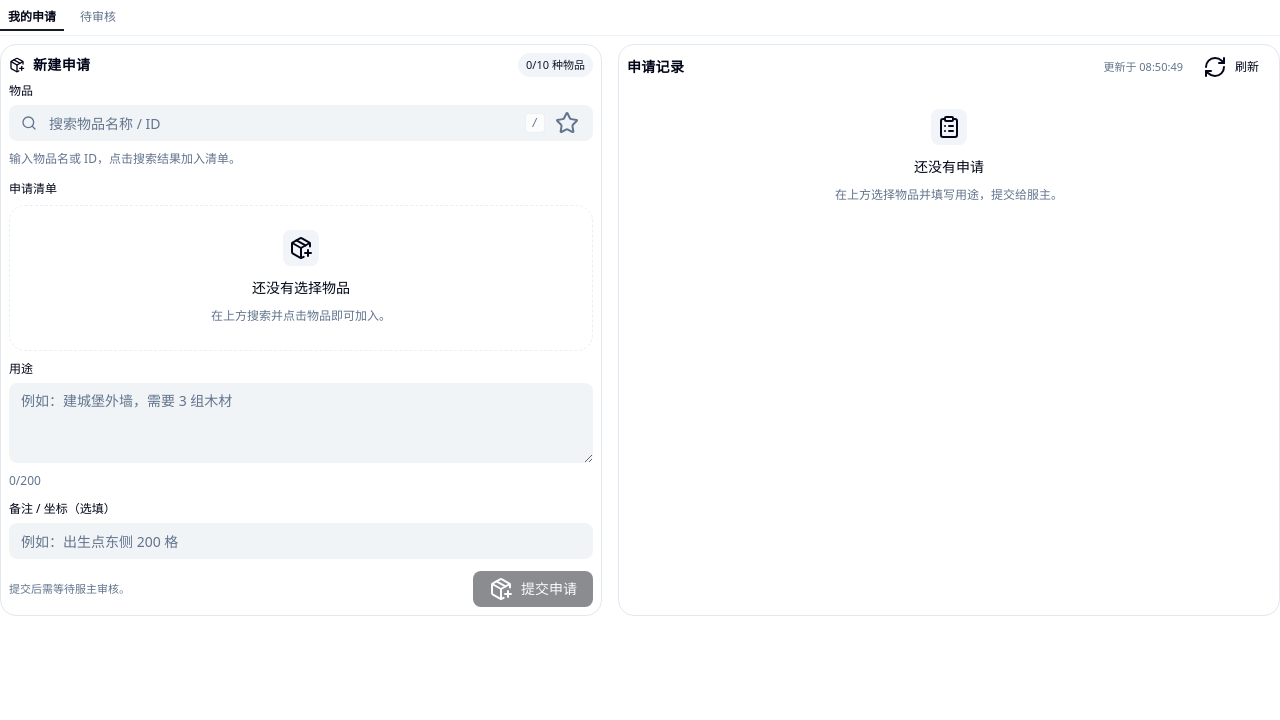
Test: RequisitionPage › 搜索框右侧的「物品收藏」popover：点一件直接加进申请清单
Check: the element named "物品收藏" is shown, box [9,105,593,141]
Click the button named "物品收藏" at (567, 123), box [553,109,581,137]
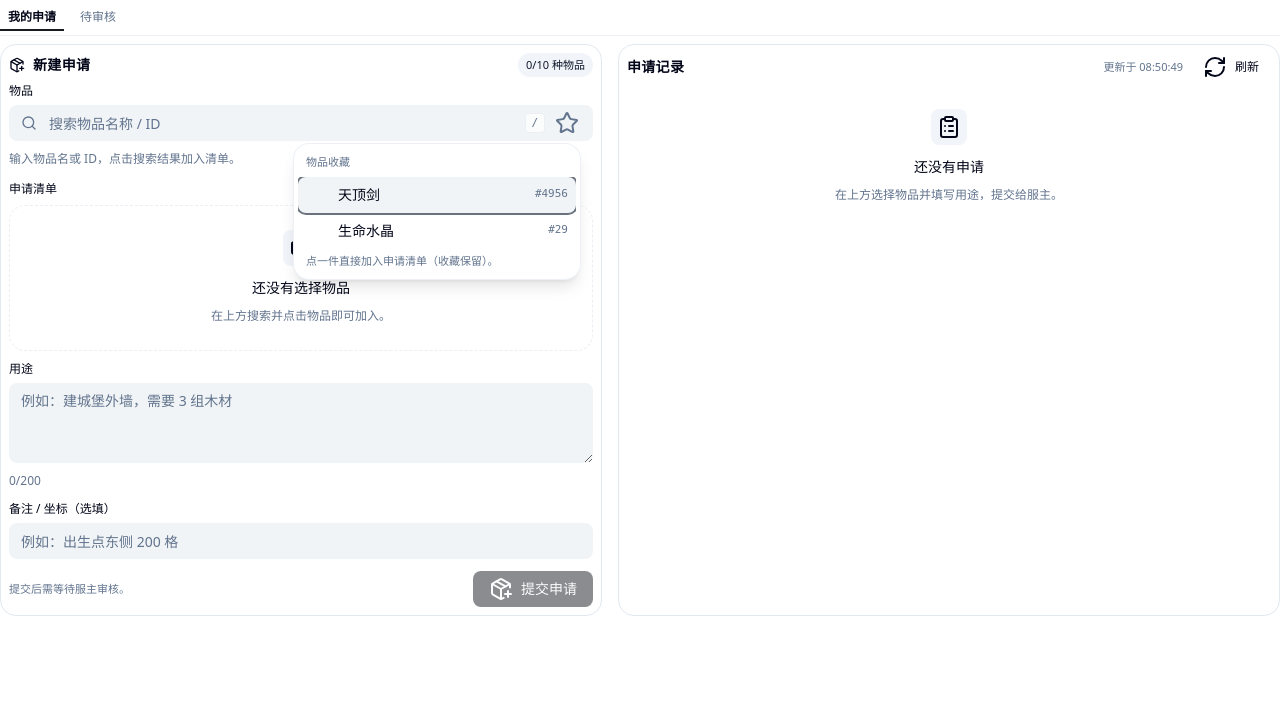
Check: the text "生命水晶" is shown, box [338,220,394,240]
Check: the text "天顶剑" is shown, box [338,184,380,204]
# 点一件 → 加进清单并**自动收起浮层**（收藏本身保留）。
Click the button with aria-label "把 生命水晶 加入申请清单" at (366, 230), box [298,212,576,248]
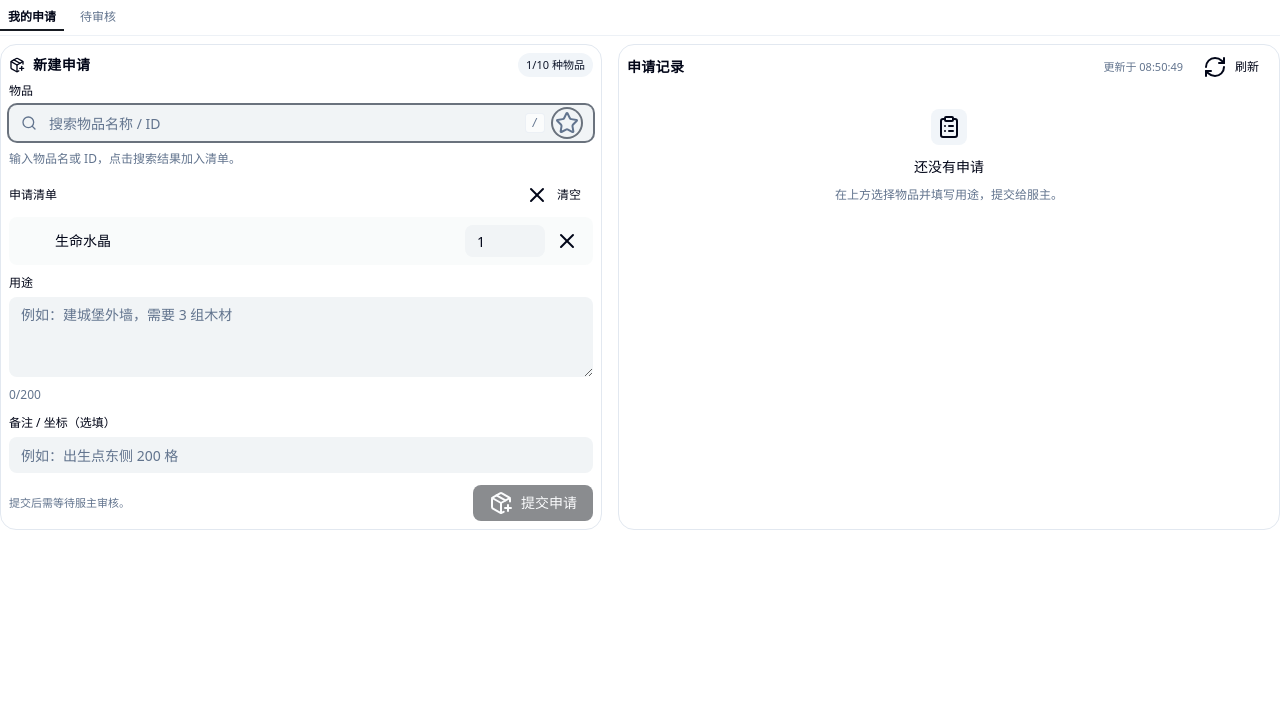
Check: the number field named "数量" is shown, box [465,225,545,257]
Check: the dialog is gone
